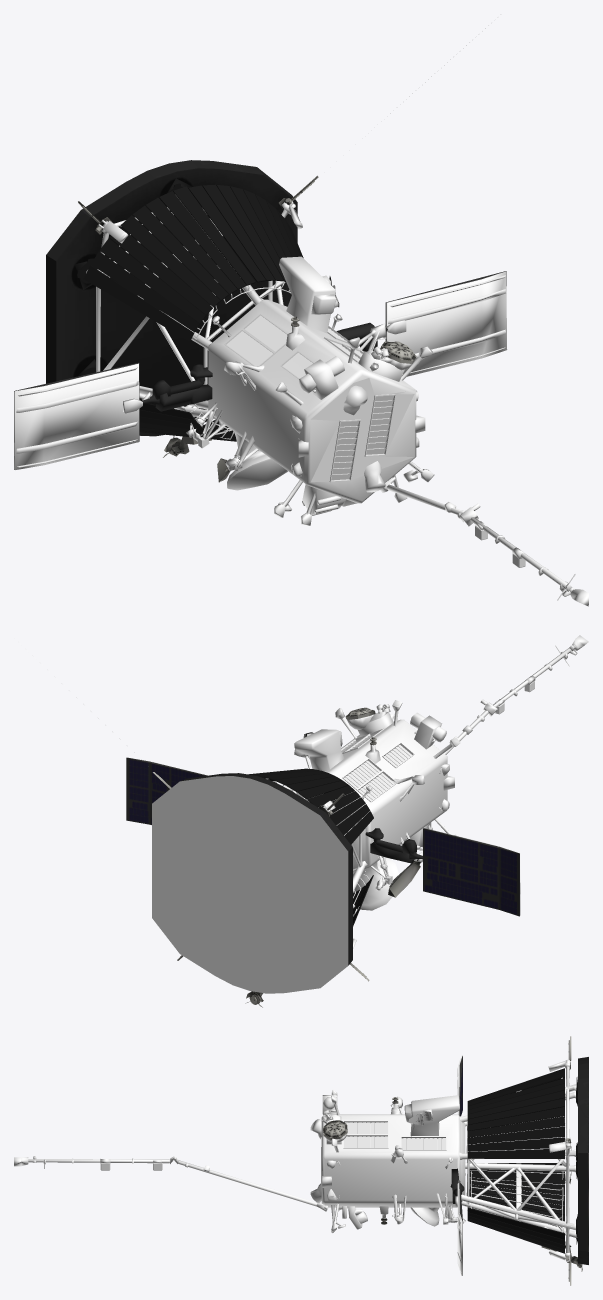
File: parker-solar-probe.glb
The picture shows the model from 3 angles, top to bottom: view 1: azimuth 30°, elevation 25°; view 2: azimuth 150°, elevation 25°; view 3: azimuth 270°, elevation 25°; orthographic projection. The views are drawn at different scales.
Bounding box in the file's own units: 5.13 × 3.27 × 6.6.
8 materials, 2 textured.
